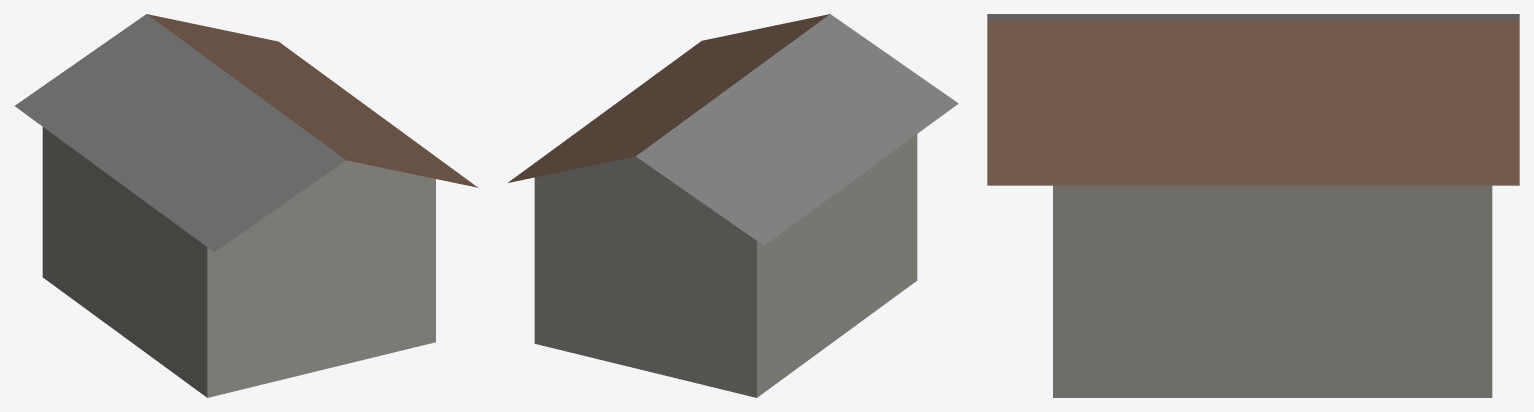
The model's file is fill5_far.fbx.
The picture shows the model from 3 angles, left to right: view 1: azimuth 30°, elevation 25°; view 2: azimuth 150°, elevation 25°; view 3: azimuth 270°, elevation 25°; orthographic projection. The views are drawn at different scales.
Parts seen in each view (by area): view 1: a2014/0/fill5_far; view 2: a2014/0/fill5_far; view 3: a2014/0/fill5_far.
Part boxes in pixels (x1,y1,x2,y2): a2014/0/fill5_far: [15, 14, 477, 397]; a2014/0/fill5_far: [508, 14, 958, 397]; a2014/0/fill5_far: [987, 14, 1519, 397].
Bounding box in the file's own units: 3.7 × 3.05 × 4.85.
